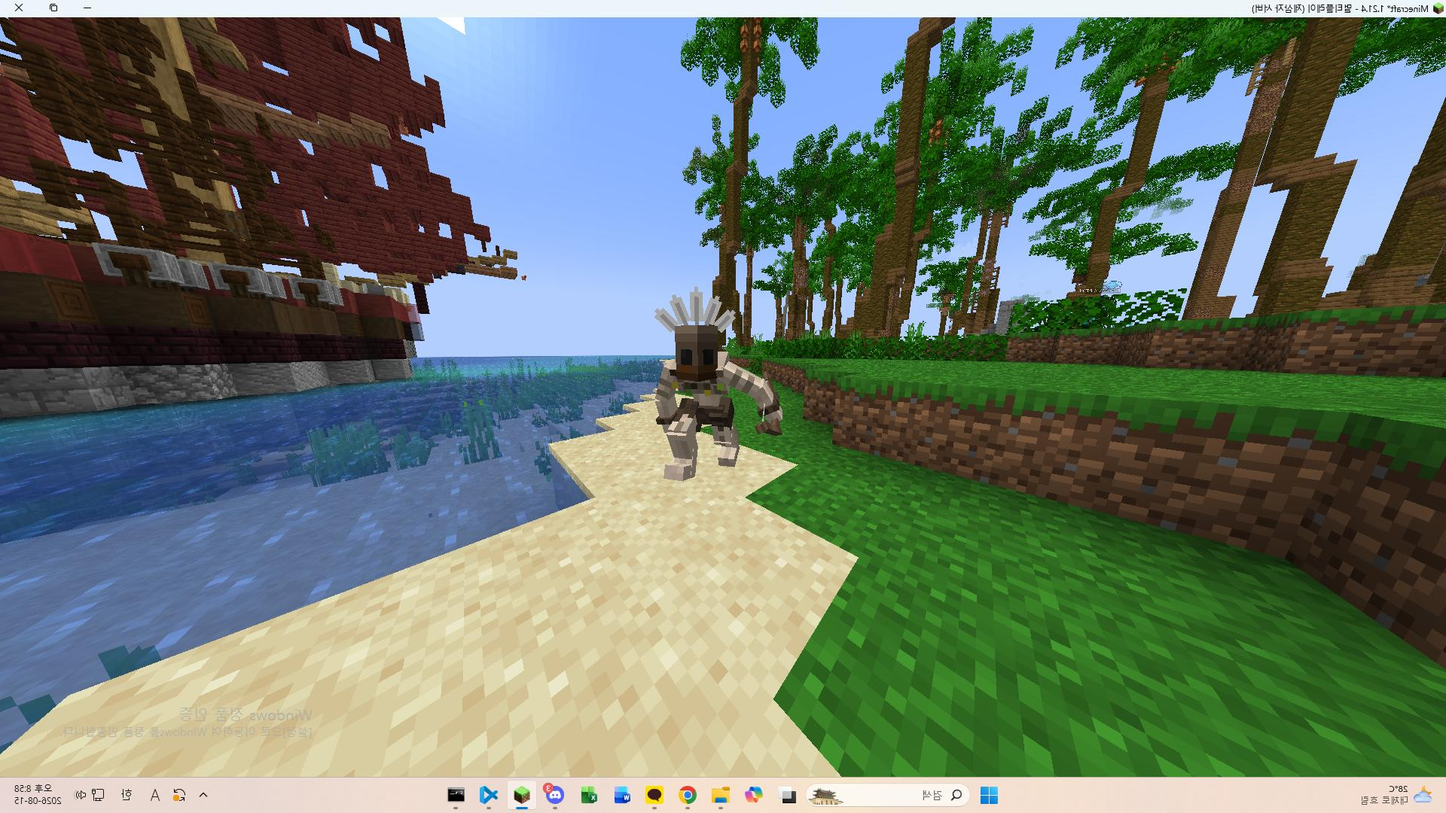bow_indian: (603, 283, 795, 512)
